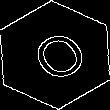O_SE: (19, 22, 91, 88)
